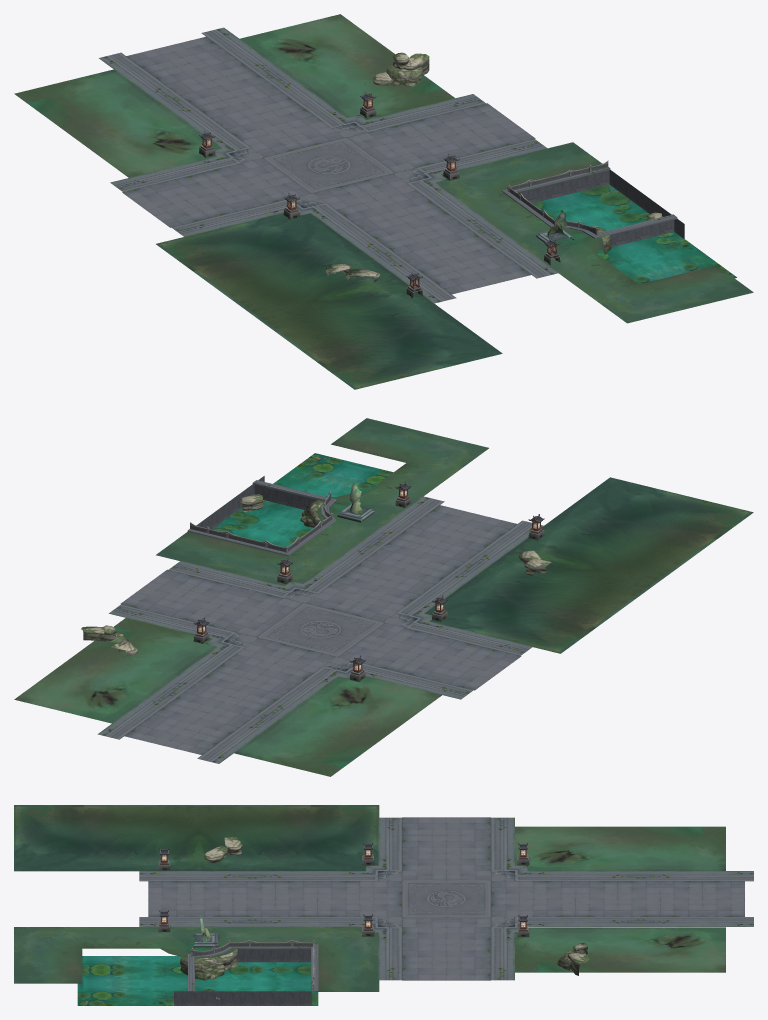
Rendered from F1001_Floor.FBX.
The picture shows the model from 3 angles, top to bottom: view 1: azimuth 30°, elevation 25°; view 2: azimuth 150°, elevation 25°; view 3: azimuth 270°, elevation 25°; orthographic projection. The views are drawn at different scales.
Visible parts, largest first — view 1: F1001_Floor02, F1001_Floor01; view 2: F1001_Floor02, F1001_Floor01; view 3: F1001_Floor02, F1001_Floor01.
Boxes of the visible parts, x1=… form: F1001_Floor02: x1=14, y1=14, x2=753, y2=389; F1001_Floor01: x1=99, y1=27, x2=684, y2=303; F1001_Floor02: x1=14, y1=418, x2=753, y2=776; F1001_Floor01: x1=81, y1=476, x2=551, y2=763; F1001_Floor02: x1=14, y1=805, x2=725, y2=1005; F1001_Floor01: x1=139, y1=817, x2=753, y2=1005.
Bounding box in the file's own units: 3225 × 356 × 5398.
